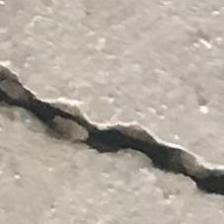Crack: (0, 52, 224, 205)
